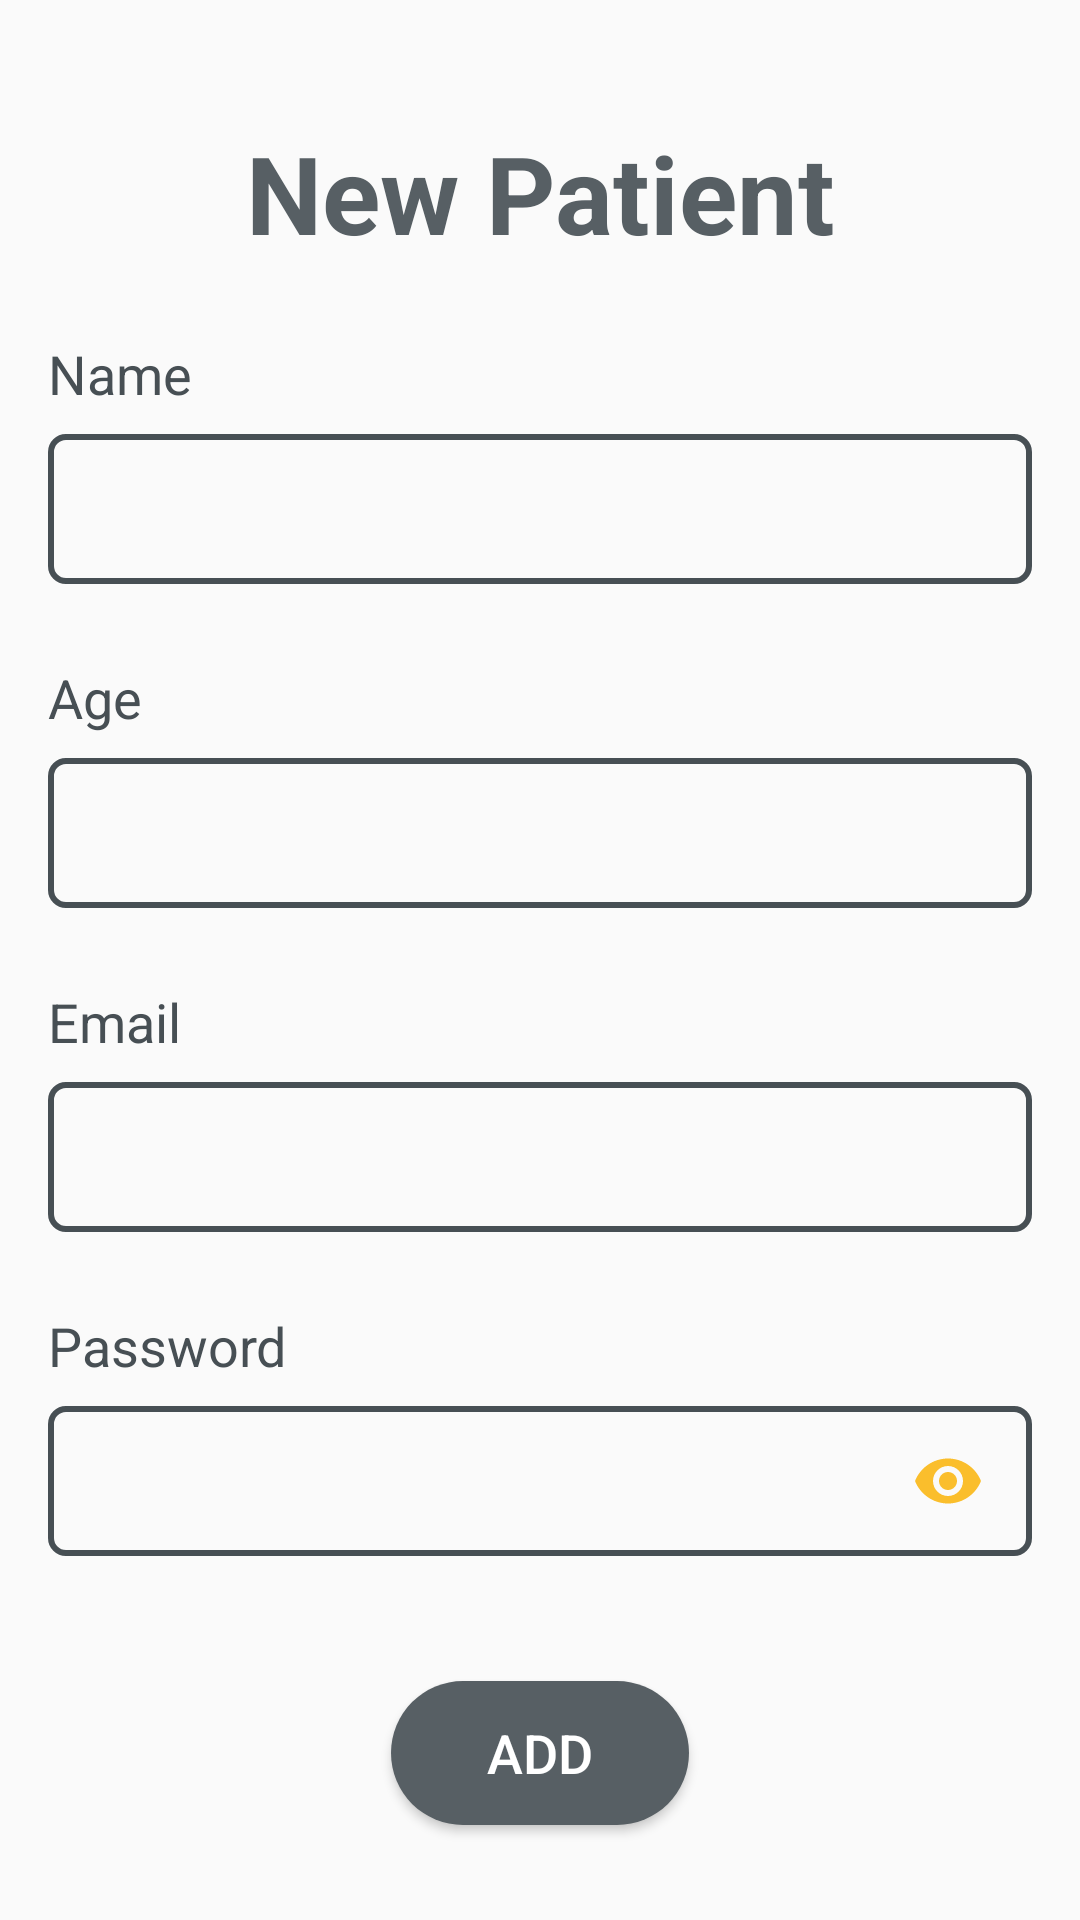

Where to tap for icons on this 1080 × 1920 app screen, as (x=x, y=y):
visibility: (x=948, y=1481)
